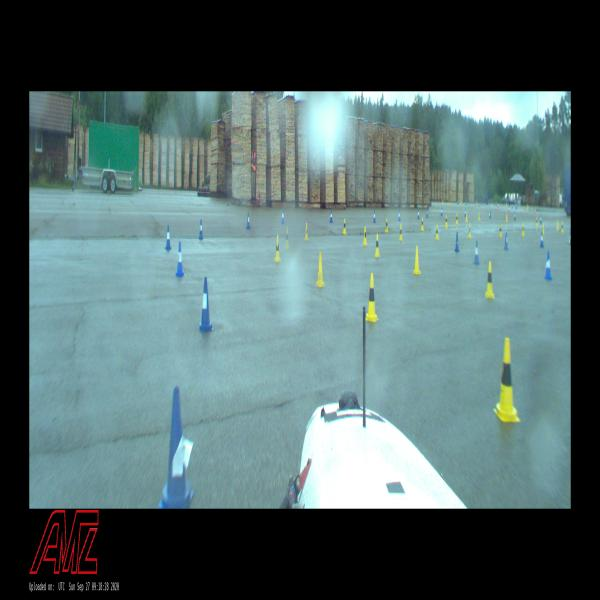blue_cone: (162, 386, 191, 506), (199, 278, 212, 331), (176, 242, 184, 276), (545, 251, 552, 279), (166, 225, 171, 250), (474, 240, 479, 264), (199, 219, 203, 239), (246, 213, 251, 229), (455, 232, 459, 252), (504, 231, 508, 249), (540, 232, 544, 247), (373, 210, 376, 222), (282, 208, 284, 224), (398, 210, 401, 220), (330, 209, 332, 222), (418, 209, 420, 219), (514, 210, 516, 220), (426, 208, 428, 217), (489, 210, 491, 218), (540, 215, 542, 223), (569, 230, 570, 245), (464, 209, 466, 216), (441, 207, 442, 216), (465, 200, 466, 205), (457, 200, 458, 204), (458, 200, 459, 204), (512, 204, 513, 208), (516, 204, 516, 209)
orange_cone: (520, 208, 522, 214), (534, 208, 536, 214), (508, 207, 510, 212), (496, 205, 497, 212), (482, 204, 483, 211), (498, 204, 499, 208), (476, 203, 476, 207), (462, 202, 462, 206)
yellow_cone: (496, 338, 517, 420), (366, 273, 377, 321), (485, 261, 494, 298), (316, 252, 325, 286), (275, 235, 281, 262), (414, 246, 420, 273), (284, 227, 290, 249), (374, 233, 379, 257), (363, 226, 367, 245), (398, 224, 402, 241), (435, 224, 439, 240), (467, 224, 471, 238), (305, 222, 308, 240), (343, 219, 346, 234), (421, 217, 424, 230), (499, 224, 502, 236), (444, 215, 447, 227), (561, 222, 564, 233), (386, 218, 388, 232), (522, 224, 524, 236), (556, 219, 558, 230), (456, 214, 458, 224), (536, 217, 538, 226), (478, 212, 480, 220), (543, 222, 544, 235), (466, 212, 467, 222), (506, 213, 507, 222), (450, 200, 452, 204), (448, 199, 449, 204), (527, 204, 528, 209), (506, 202, 507, 207), (442, 199, 443, 203), (460, 201, 461, 204), (532, 206, 532, 210)
